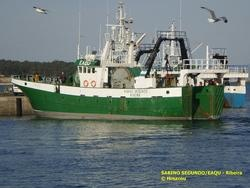bird: (200, 6, 231, 25), (32, 2, 49, 16)
otherboat: (11, 4, 226, 123)
